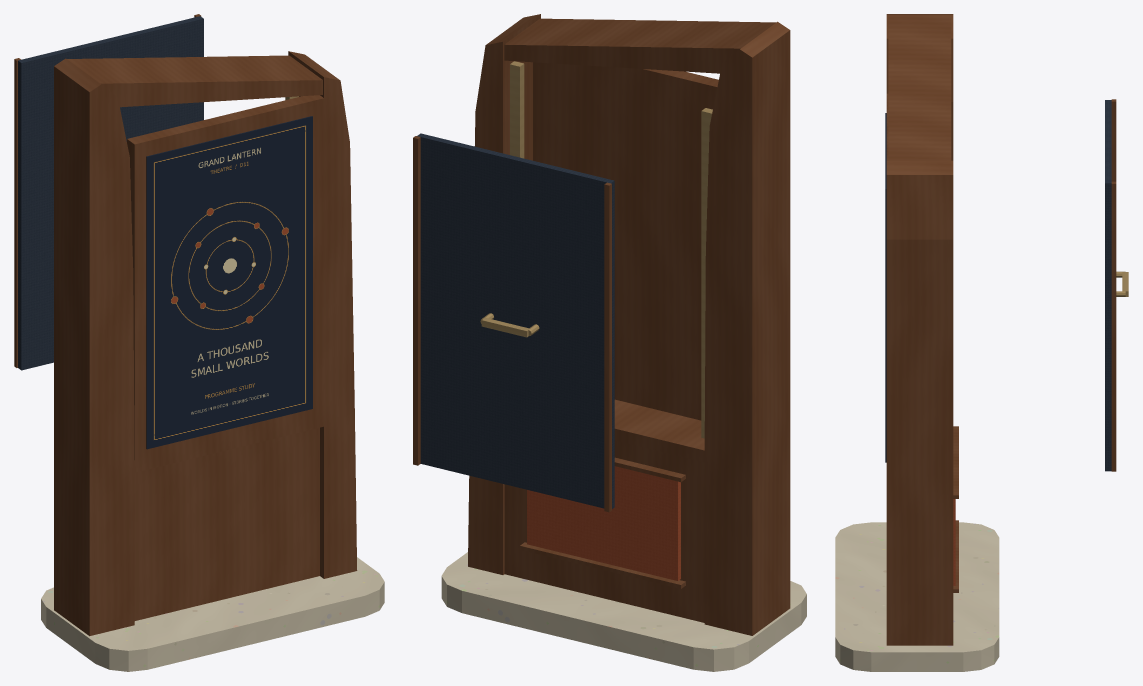
File: AST-CUL-001_access.glb
3 renders of one model, left to right at view 1: azimuth 30°, elevation 25°; view 2: azimuth 150°, elevation 25°; view 3: azimuth 270°, elevation 25°, orthographic. The views are drawn at different scales.
Parts seen in each view (by area): view 1: AST-CUL-001_access__AST-CUL-001__warm_walnut, AST-CUL-001_access__AST-CUL-001__programme_original, AST-CUL-001_access__REAR_SERVICE_PANEL__auditorium_navy_fibr, AST-CUL-001_access__AST-CUL-001__warm_stone, AST-CUL-001_access__REAR_SERVICE_PANEL__warm_walnut; view 2: AST-CUL-001_access__AST-CUL-001__warm_walnut, AST-CUL-001_access__REAR_SERVICE_PANEL__auditorium_navy_fibr, AST-CUL-001_access__AST-CUL-001__warm_stone, AST-CUL-001_access__AST-CUL-001__auditorium_amber_velvet, AST-CUL-001_access__REAR_SERVICE_PANEL__warm_walnut, AST-CUL-001_access__AST-CUL-001__champagne_metal, AST-CUL-001_access__REAR_SERVICE_PANEL__champagne_metal; view 3: AST-CUL-001_access__AST-CUL-001__warm_walnut, AST-CUL-001_access__AST-CUL-001__warm_stone, AST-CUL-001_access__REAR_SERVICE_PANEL__auditorium_navy_fibr, AST-CUL-001_access__REAR_SERVICE_PANEL__warm_walnut, AST-CUL-001_access__AST-CUL-001__programme_original.
Boxes of the visible parts, x1,y1,x2,y2 form: AST-CUL-001_access__AST-CUL-001__warm_walnut: (54,51,357,636); AST-CUL-001_access__AST-CUL-001__programme_original: (146,116,312,449); AST-CUL-001_access__REAR_SERVICE_PANEL__auditorium_navy_fibr: (18,16,203,370); AST-CUL-001_access__AST-CUL-001__warm_stone: (41,557,384,671); AST-CUL-001_access__REAR_SERVICE_PANEL__warm_walnut: (14,14,201,367); AST-CUL-001_access__AST-CUL-001__warm_walnut: (468,14,790,635); AST-CUL-001_access__REAR_SERVICE_PANEL__auditorium_navy_fibr: (417,133,614,508); AST-CUL-001_access__AST-CUL-001__warm_stone: (441,552,806,671); AST-CUL-001_access__AST-CUL-001__auditorium_amber_velvet: (527,466,680,580); AST-CUL-001_access__REAR_SERVICE_PANEL__warm_walnut: (413,136,611,512); AST-CUL-001_access__AST-CUL-001__champagne_metal: (510,61,712,438); AST-CUL-001_access__REAR_SERVICE_PANEL__champagne_metal: (480,313,539,337); AST-CUL-001_access__AST-CUL-001__warm_walnut: (886,14,958,645); AST-CUL-001_access__AST-CUL-001__warm_stone: (835,522,999,671); AST-CUL-001_access__REAR_SERVICE_PANEL__auditorium_navy_fibr: (1105,100,1111,471); AST-CUL-001_access__REAR_SERVICE_PANEL__warm_walnut: (1111,99,1116,471); AST-CUL-001_access__AST-CUL-001__programme_original: (885,113,886,462).
Size of the model in its own units: 1.2 by 2.3 by 1.14.
6 materials, 6 textured.
